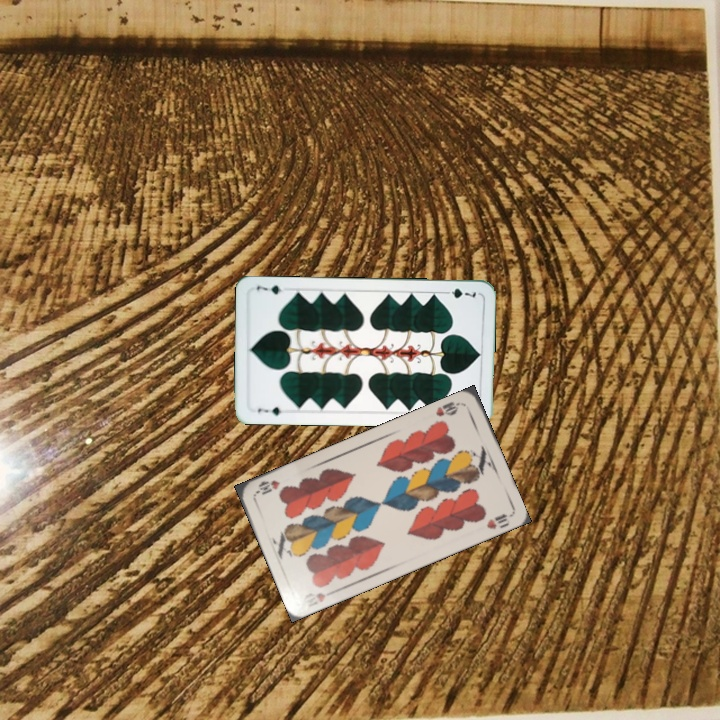G7: (439, 284, 478, 301), (254, 403, 284, 418)
H10: (432, 398, 465, 419), (312, 586, 339, 605)
